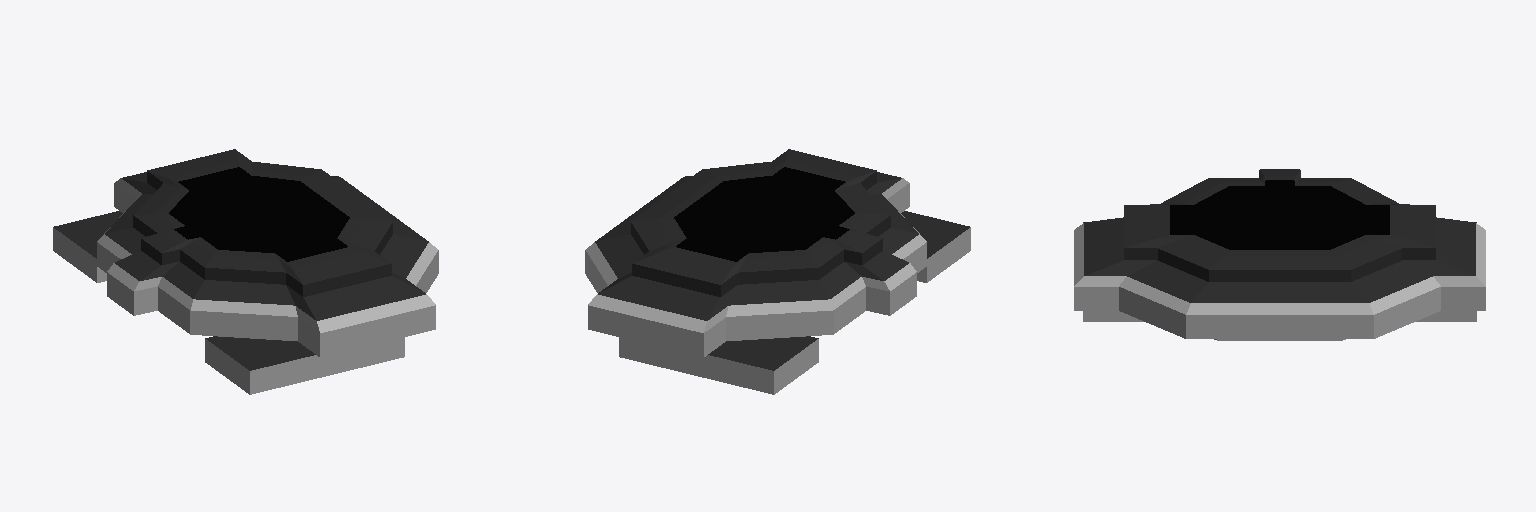
The model's file is Building2.obj.
The picture shows the model from 3 angles: view 1: azimuth 30°, elevation 25°; view 2: azimuth 150°, elevation 25°; view 3: azimuth 270°, elevation 25°; orthographic projection.
Parts seen in each view (by area): view 1: Gallery_Gallery_Roof, Gallery_Gallery_Walls, Gallery_Gallery_Skylight, Gallery_Gallery_BottomRoof; view 2: Gallery_Gallery_Roof, Gallery_Gallery_Walls, Gallery_Gallery_Skylight, Gallery_Gallery_BottomRoof; view 3: Gallery_Gallery_Roof, Gallery_Gallery_Walls, Gallery_Gallery_Skylight.
Part boxes in pixels (left/top/right/bottom): Gallery_Gallery_Roof: left=105, top=149, right=428, bottom=320; Gallery_Gallery_Walls: left=53, top=178, right=438, bottom=394; Gallery_Gallery_Skylight: left=169, top=167, right=349, bottom=261; Gallery_Gallery_BottomRoof: left=54, top=211, right=315, bottom=370; Gallery_Gallery_Roof: left=595, top=149, right=918, bottom=320; Gallery_Gallery_Walls: left=585, top=178, right=970, bottom=394; Gallery_Gallery_Skylight: left=674, top=167, right=854, bottom=261; Gallery_Gallery_BottomRoof: left=708, top=211, right=969, bottom=370; Gallery_Gallery_Roof: left=1084, top=169, right=1475, bottom=302; Gallery_Gallery_Walls: left=1074, top=223, right=1485, bottom=340; Gallery_Gallery_Skylight: left=1170, top=180, right=1389, bottom=249.
Bounding box in the file's own units: 35 × 10.2 × 46.